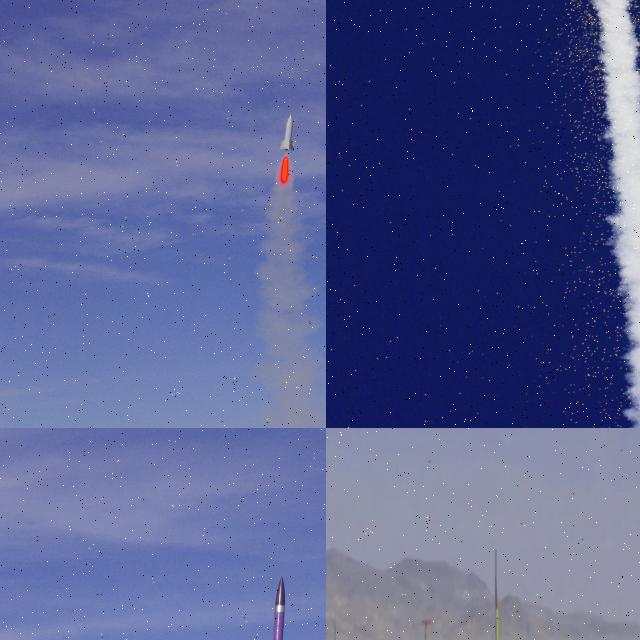Rocket: (253, 575, 294, 640), (279, 114, 295, 152), (492, 601, 500, 640)
